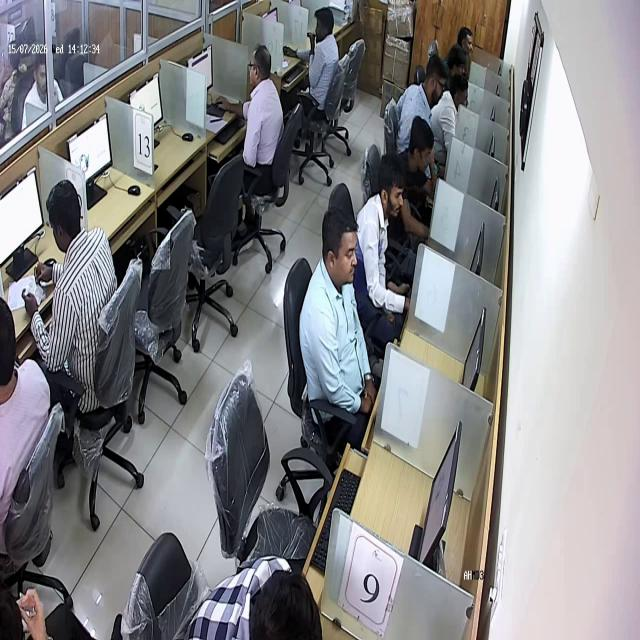paper-chit: (26, 274, 46, 304)
